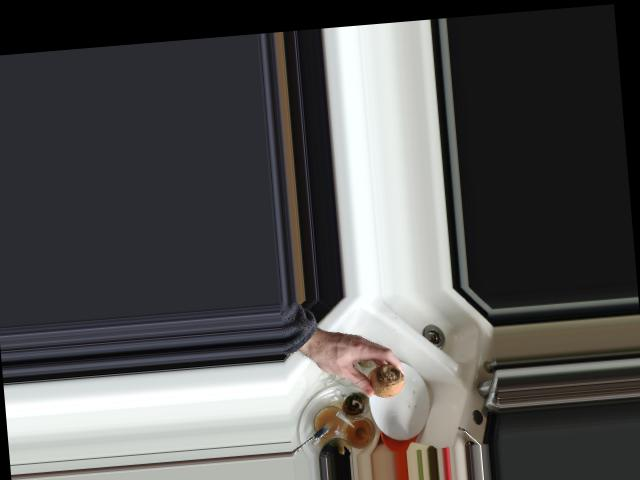sweet_potato: (359, 361, 407, 400)
